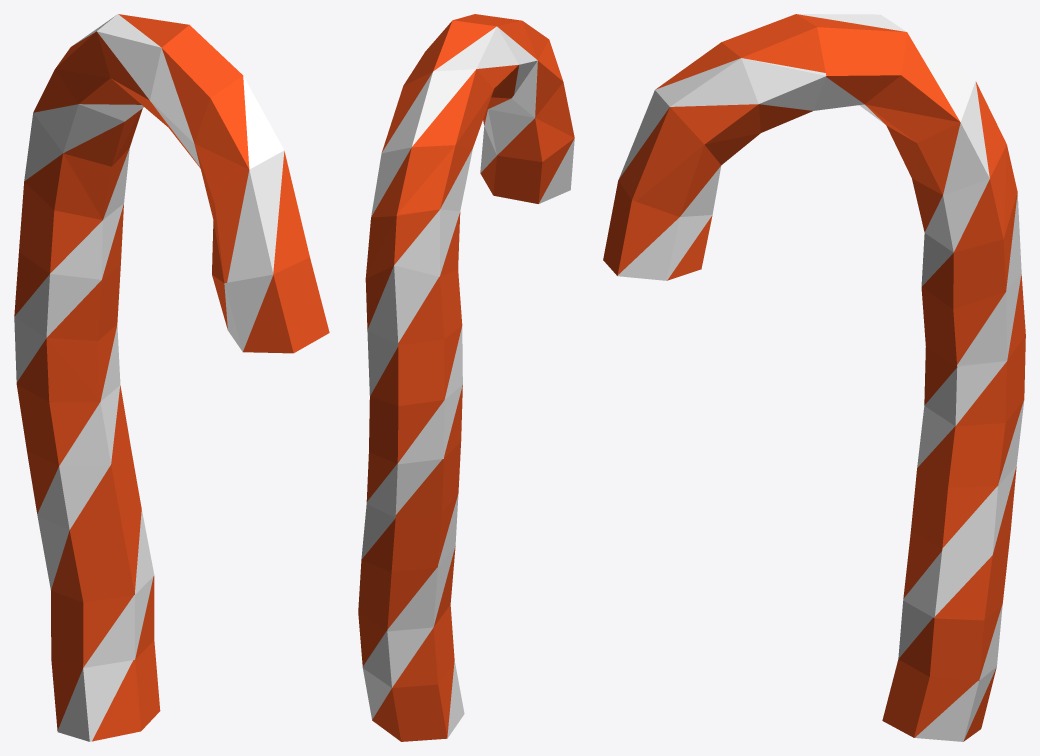
File: candy-cane-by-larry-james-ak2ylINLhaC.glb
The picture shows the model from 3 angles, left to right: view 1: azimuth 30°, elevation 25°; view 2: azimuth 150°, elevation 25°; view 3: azimuth 270°, elevation 25°; orthographic projection. The views are drawn at different scales.
Visible parts, largest first — view 1: group1585361914; view 2: group1585361914; view 3: group1585361914.
Boxes of the visible parts, bbox=[...] form: group1585361914: bbox=[14, 14, 329, 741]; group1585361914: bbox=[358, 14, 574, 741]; group1585361914: bbox=[603, 14, 1025, 741].
Size of the model in its own units: 0.1858 by 1.01 by 0.543.
